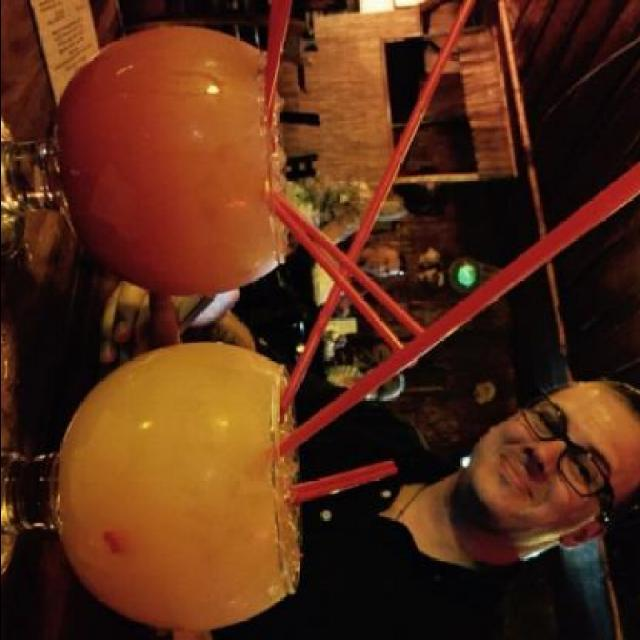Juice: (48, 344, 304, 633), (44, 24, 273, 288)
